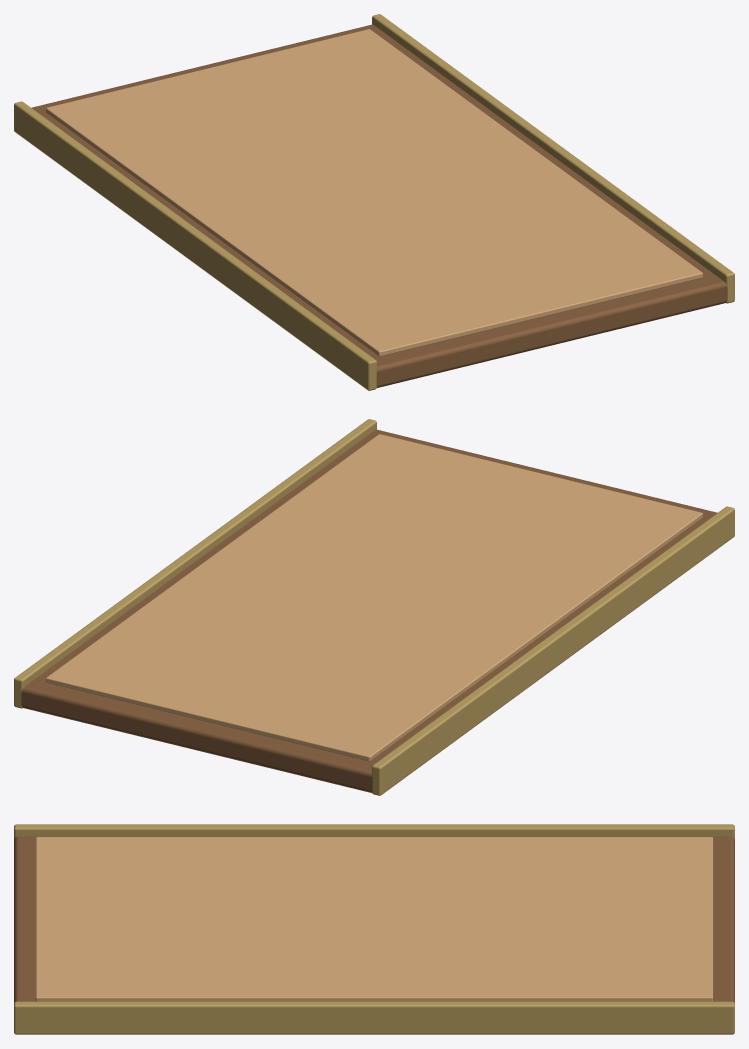
File: fantasy-cartographers-map-printing-guild-press-bed-car-035e24c0__32245.glb
3 renders of one model, top to bottom at view 1: azimuth 30°, elevation 25°; view 2: azimuth 150°, elevation 25°; view 3: azimuth 270°, elevation 25°, orthographic.
Visible parts, largest first — view 1: press-bed-carriage; view 2: press-bed-carriage; view 3: press-bed-carriage.
Part boxes in pixels (x1=…): press-bed-carriage: x1=14, y1=14, x2=734, y2=390; press-bed-carriage: x1=14, y1=419, x2=734, y2=795; press-bed-carriage: x1=14, y1=824, x2=734, y2=1034.
Bounding box in the file's own units: 0.9851 × 0.075 × 1.65.
